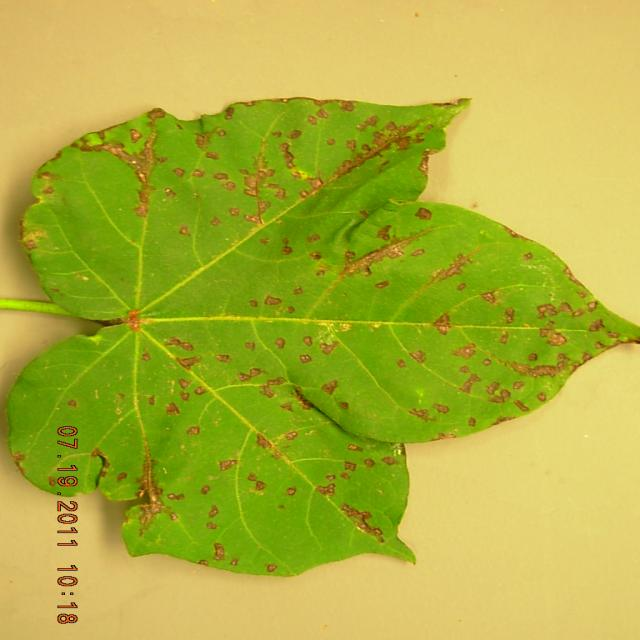Bacterial Blight: (107, 120, 532, 440)
